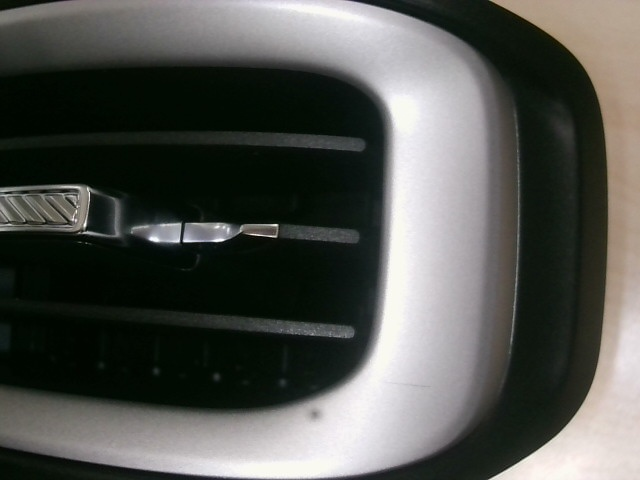NG: (371, 365, 455, 414)
